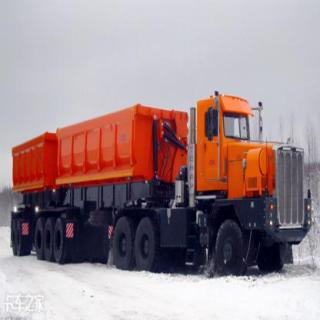Normal_vehicle: (8, 87, 314, 291)
